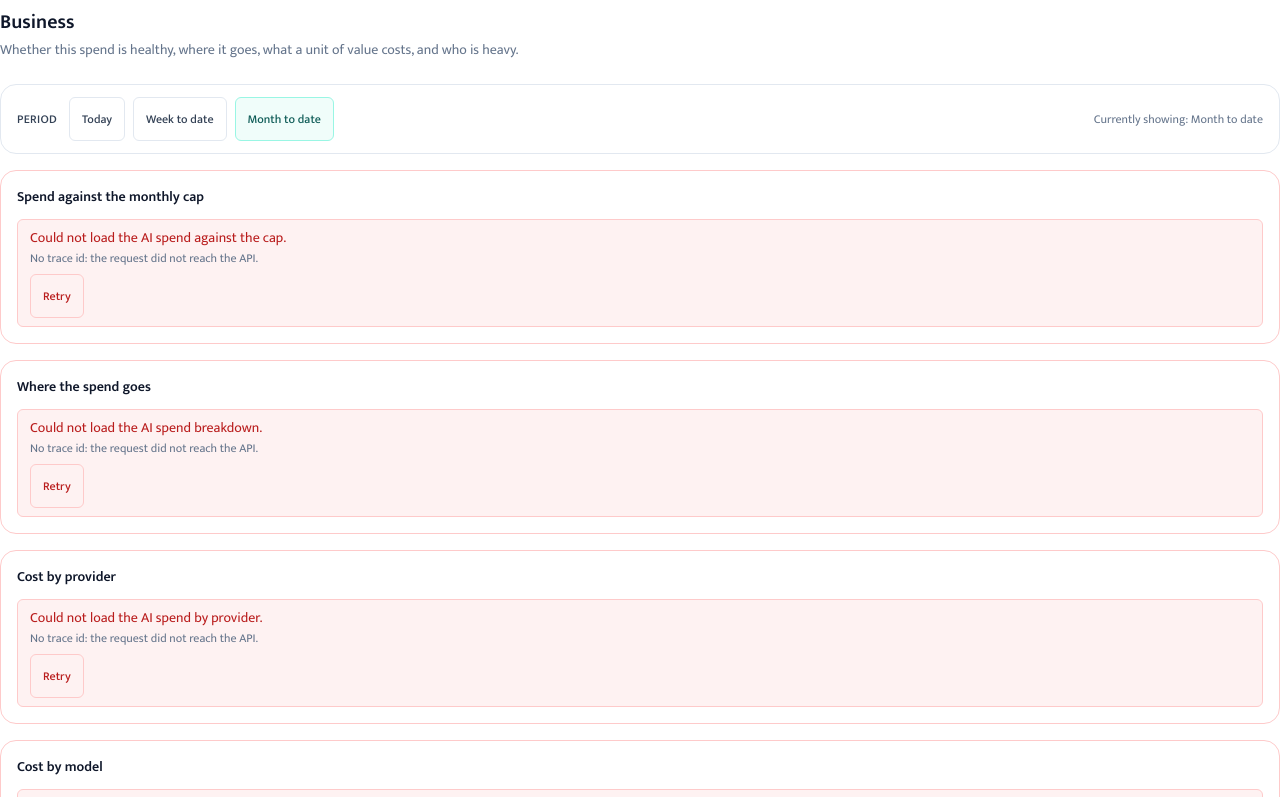
Test case: ObservabilityBusinessPage › retries the failed read rather than the page
Expected: the message with test id "business-spend-error" is shown, [17,219,1263,327]
Click the button with test id "business-spend-retry": (57, 296) [30,274,84,318]
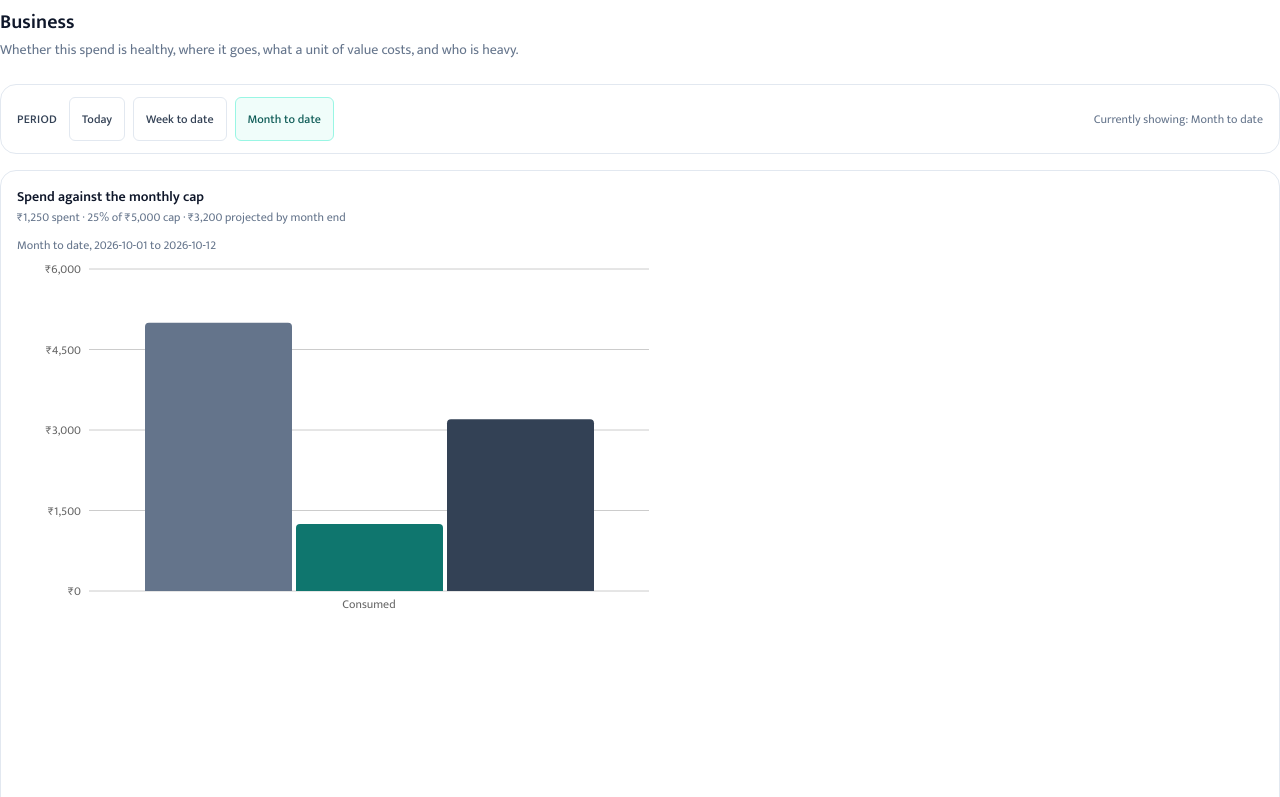
Now the text with test id "business-spend-takeaway" shows "₹1,250 spent", box [17,207,346,227]
